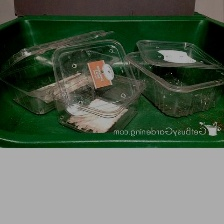plastic_box: (0, 24, 123, 119), (46, 36, 152, 133), (120, 33, 224, 121)
